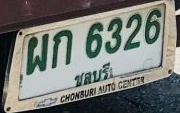txt01: (50, 29, 73, 70)
txt23: (25, 32, 48, 77)
